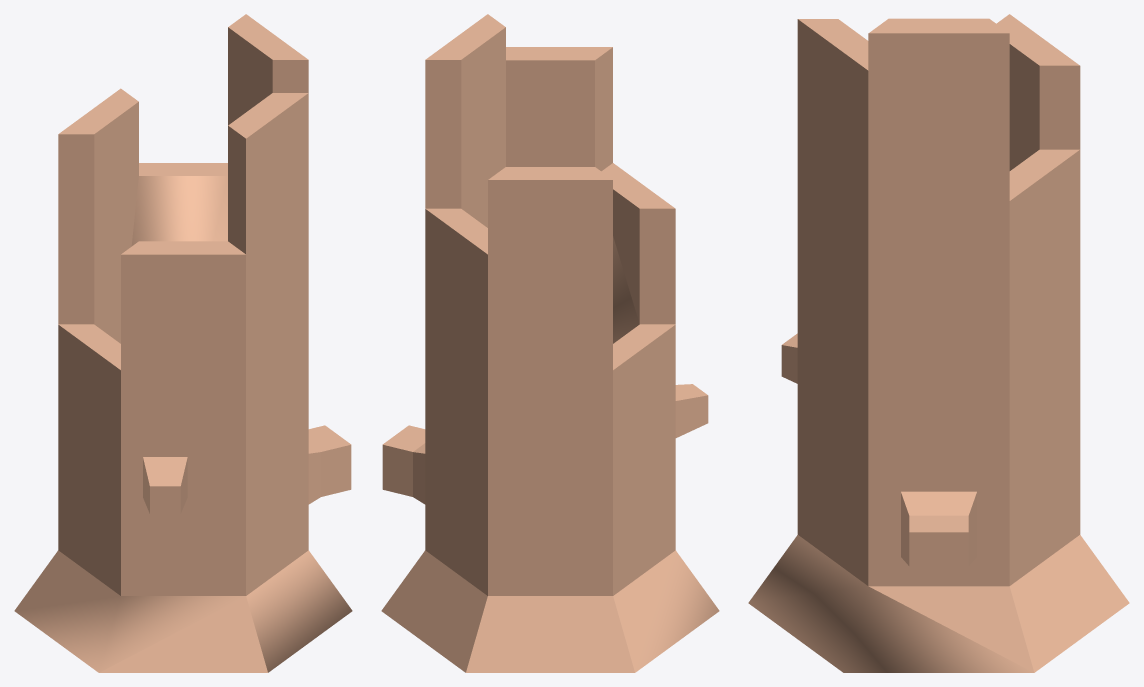
Rendered from stump_oldTall_hollow.glb.
3 renders of one model, left to right at view 1: azimuth 30°, elevation 25°; view 2: azimuth 150°, elevation 25°; view 3: azimuth 270°, elevation 25°, orthographic. The views are drawn at different scales.
Visible parts, largest first — view 1: stump_oldTall; view 2: stump_oldTall; view 3: stump_oldTall.
Part boxes in pixels (x1,y1,x2,y2): stump_oldTall: (14, 14, 352, 672); stump_oldTall: (381, 14, 719, 672); stump_oldTall: (748, 14, 1129, 672).
Size of the model in its own units: 0.3565 by 0.6665 by 0.371.
